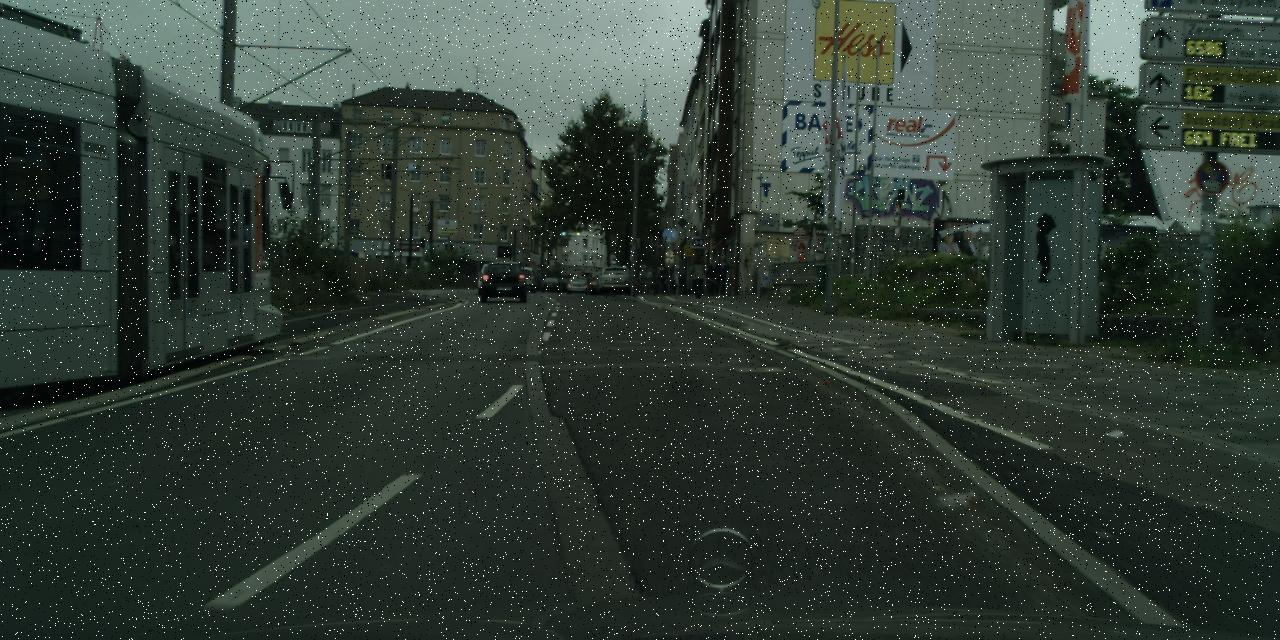ped: (688, 252, 708, 300), (713, 254, 729, 294), (704, 258, 720, 294), (678, 272, 686, 294)
